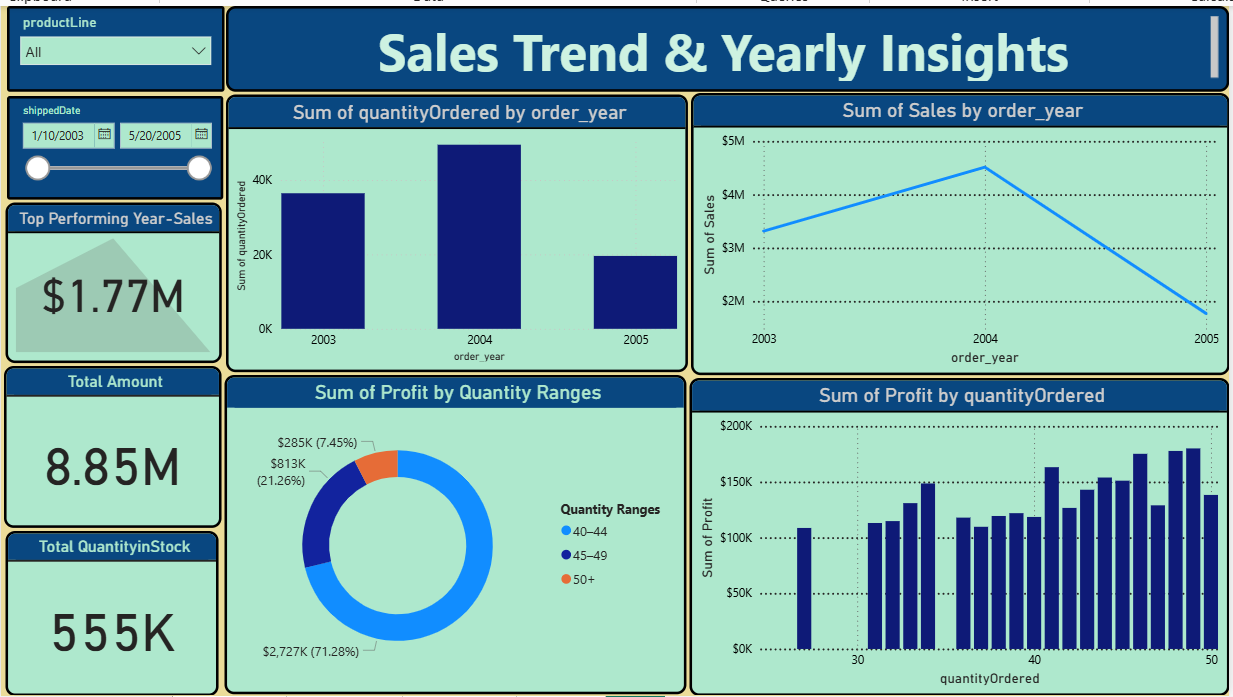

Layout of this report page (visuals, bound fields, positions):
{"tool":"powerbi","page":{"name":"Page 2","canvas":[1280,720],"ordinal":1},"visuals":[{"type":"columnChart","fields":{"Category":["orders.order_year"],"Y":["Sum(order details.quantityOrdered)"]},"box":[234.4,92.2,481.4,289.2],"z":0},{"type":"slicer","fields":{"Values":["products.productLine"]},"box":[6.3,0,226.6,89.1],"z":1000},{"type":"kpi","title":"Top Performing Year-Sales","fields":{"TrendLine":["orders.order_year"],"Indicator":["order details.YearWithHighestSales"]},"box":[4.7,204.8,225.1,167.2],"z":2000},{"type":"card","title":"Total Amount","fields":{"Values":["Sum(payments.amount)"]},"box":[3.1,375.1,226.6,168.8],"z":3000},{"type":"slicer","fields":{"Values":["orders.shippedDate"]},"box":[6.3,93.8,225.1,107.8],"z":4000},{"type":"card","title":"Total QuantityinStock","fields":{"Values":["Sum(products.quantityInStock)"]},"box":[4.7,547,221.9,171.9],"z":5000},{"type":"lineChart","fields":{"Category":["orders.order_year"],"Y":["Sum(order details.Sales)"]},"box":[718.9,90.7,561.1,293.8],"z":6000},{"type":"textbox","box":[234.4,0,1045.6,89.1],"z":7000},{"type":"donutChart","fields":{"Category":["order details.Quantity Ranges"],"Y":["Sum(order details.Profit)"]},"box":[232.9,384.5,481.4,332.9],"z":8000},{"type":"clusteredColumnChart","fields":{"Category":["order details.quantityOrdered"],"Y":["Sum(order details.Profit)"]},"box":[717.4,387.6,562.7,331.4],"z":9000}]}

Visuals, with their boxes in screenshot pixels (x1, y1, x2, y2), scaled from the page's 1280x720 canvas onto the 1233x697 screenshot:
columnChart - orders.order_year x Sum(order details.quantityOrdered): (left=226, top=89, right=690, bottom=369)
slicer - products.productLine: (left=6, top=0, right=224, bottom=86)
"Top Performing Year-Sales" kpi: (left=5, top=198, right=221, bottom=360)
"Total Amount" card: (left=3, top=363, right=221, bottom=527)
slicer - orders.shippedDate: (left=6, top=91, right=223, bottom=195)
"Total QuantityinStock" card: (left=5, top=530, right=218, bottom=696)
lineChart - orders.order_year x Sum(order details.Sales): (left=693, top=88, right=1232, bottom=372)
textbox: (left=226, top=0, right=1232, bottom=86)
donutChart - order details.Quantity Ranges x Sum(order details.Profit): (left=224, top=372, right=688, bottom=694)
clusteredColumnChart - order details.quantityOrdered x Sum(order details.Profit): (left=691, top=375, right=1232, bottom=696)
